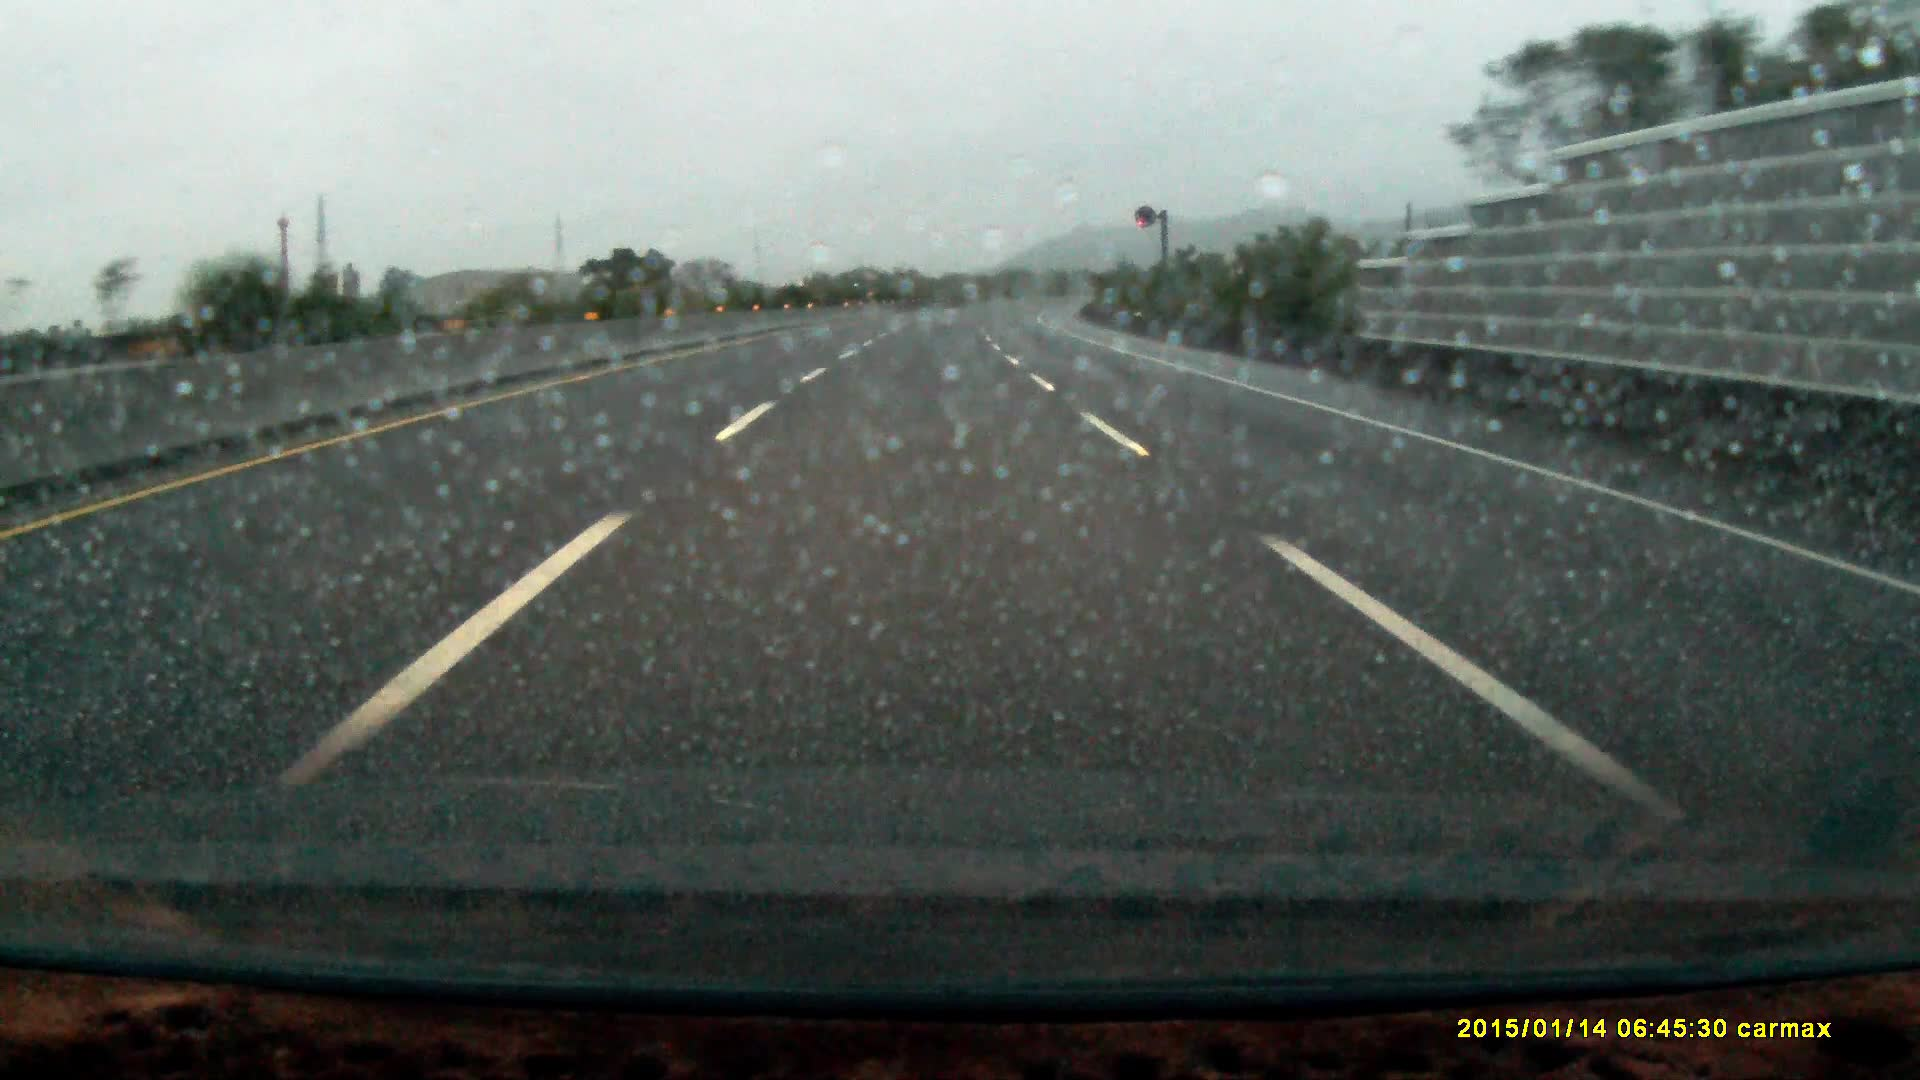vehicle: (843, 269, 887, 309)
